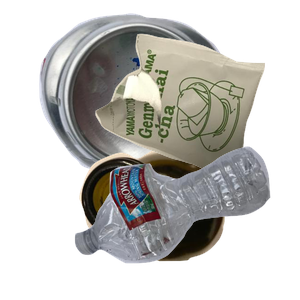glass: (77, 147, 295, 300)
metal: (37, 11, 261, 180)
plastic: (72, 144, 300, 300)
trash: (93, 31, 300, 205)
